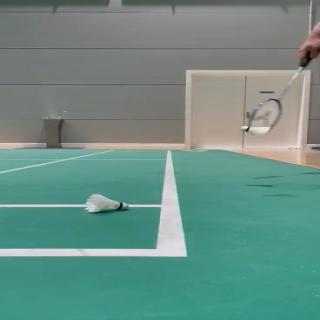Shuttle: (83, 194, 129, 212), (240, 126, 271, 138)
